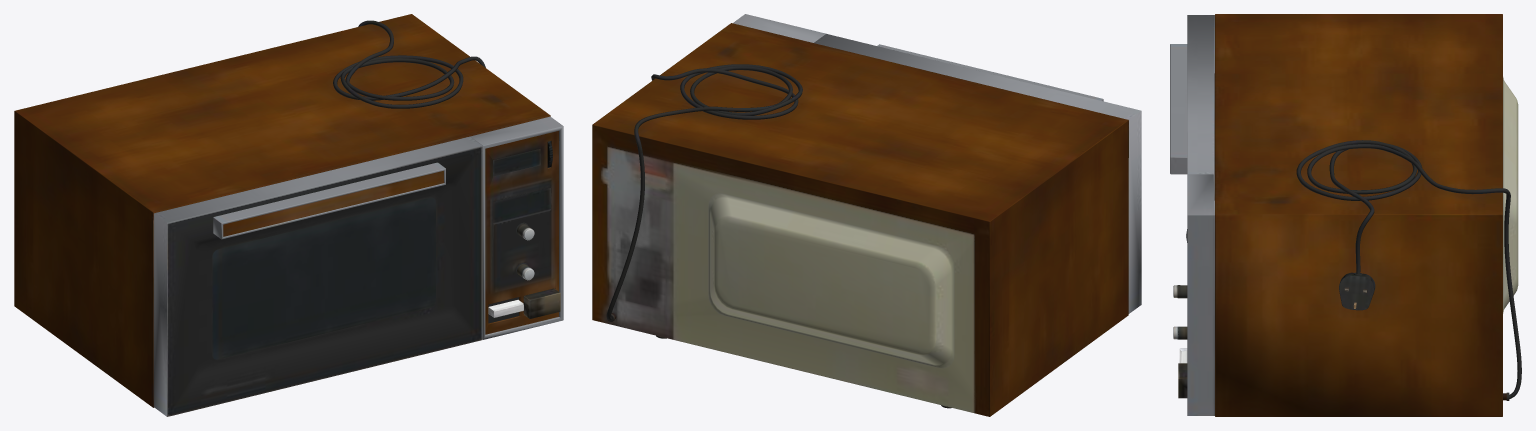
The model's file is microwave.glb.
The picture shows the model from 3 angles, left to right: view 1: azimuth 30°, elevation 25°; view 2: azimuth 150°, elevation 25°; view 3: azimuth 270°, elevation 25°; orthographic projection. The views are drawn at different scales.
Visible parts, largest first — view 1: vintage_microwave; view 2: vintage_microwave; view 3: vintage_microwave.
Part boxes in pixels (x1,y1,x2,y2): vintage_microwave: [14, 14, 563, 416]; vintage_microwave: [592, 14, 1141, 416]; vintage_microwave: [1170, 14, 1521, 416].
Bounding box in the file's own units: 1.07 × 0.5257 × 0.7455.
Materials: 2 (2 with a texture image).
